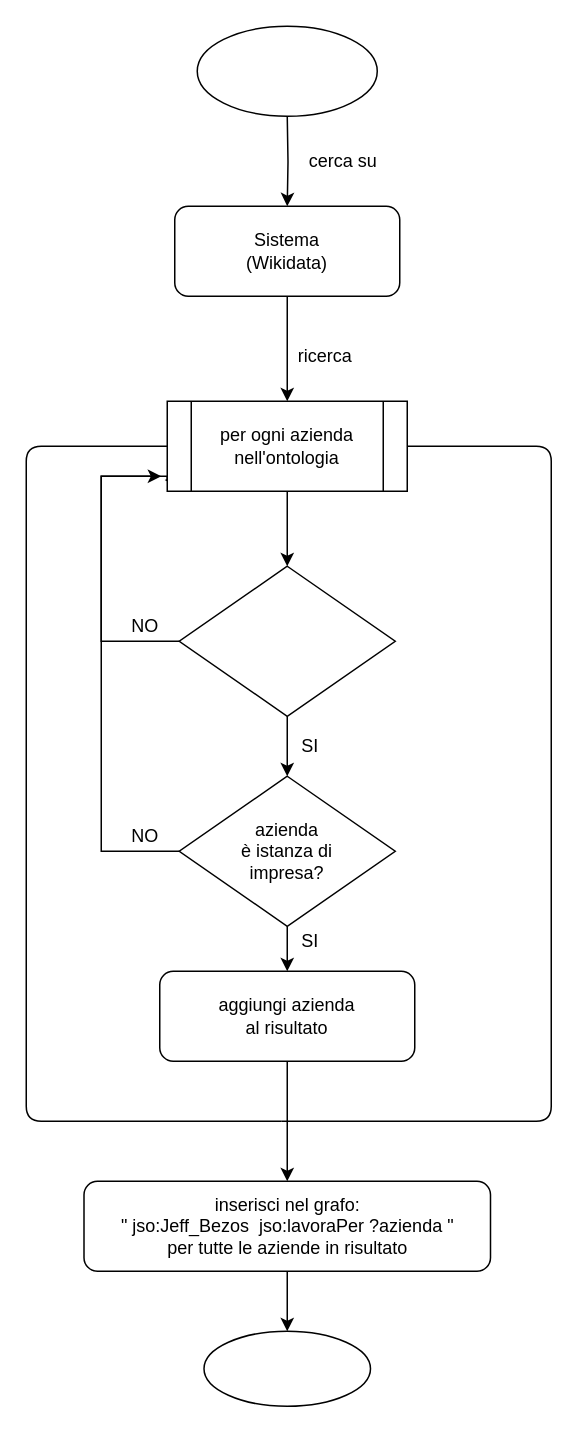
Some shapes in this 579 by 1433 pixel diagram are drawn without their labels. The shapes that lost their labels are listed below. From the top down, each one's box as (x1, y1, x2, y2) in pixels, then its label:
(196, 25, 377, 116): Utente
(178, 565, 395, 716): azienda fondata da "Jeff_Bezos"?
(202, 1330, 370, 1406): FINE
